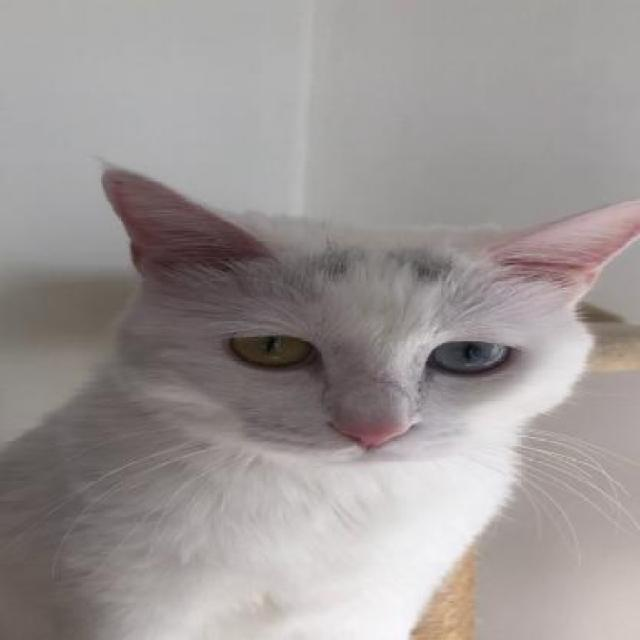cat-face: (92, 165, 640, 468)
